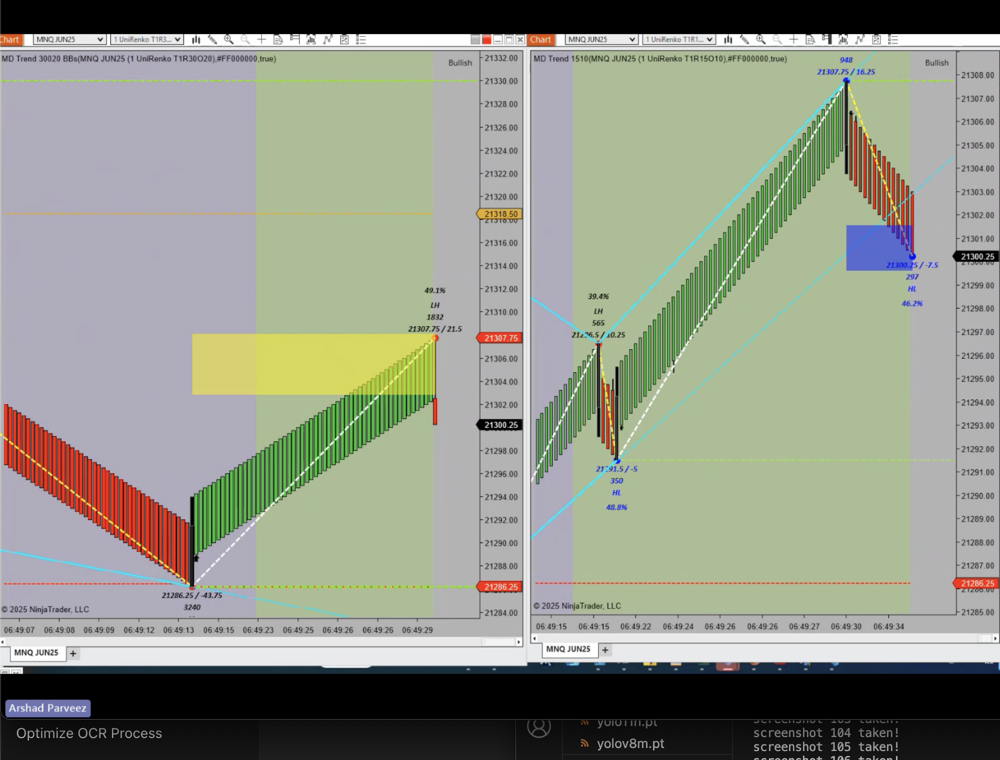HL: (903, 277, 924, 297), (608, 483, 624, 500)
LH: (426, 296, 447, 312), (590, 304, 611, 319)
